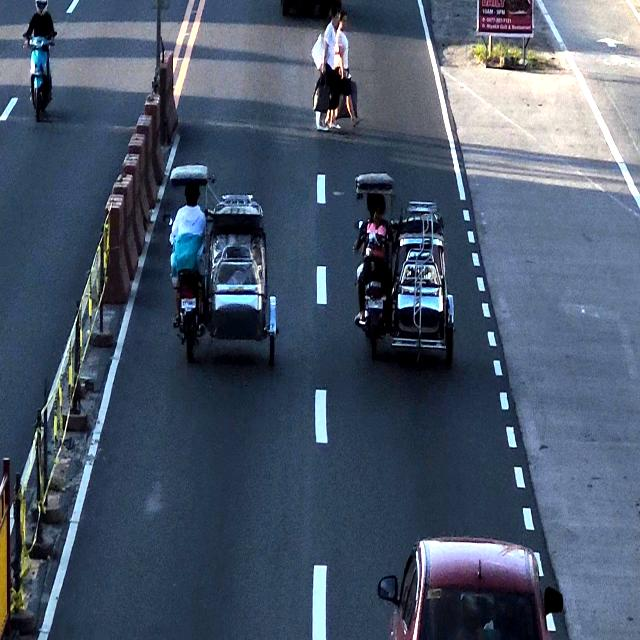Car: (387, 538, 555, 640)
License-Plate: (179, 298, 198, 313), (366, 295, 386, 309)
Tricycle: (163, 162, 281, 370), (349, 171, 464, 368)
